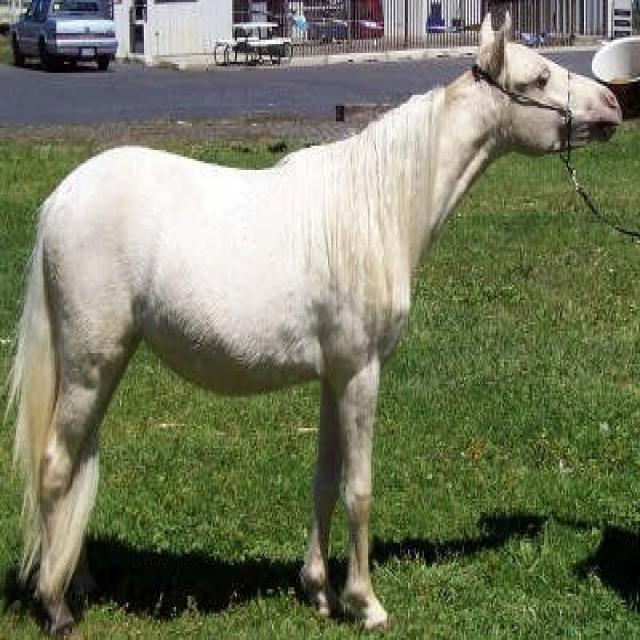car: (10, 0, 120, 73)
horse: (0, 11, 624, 631)
